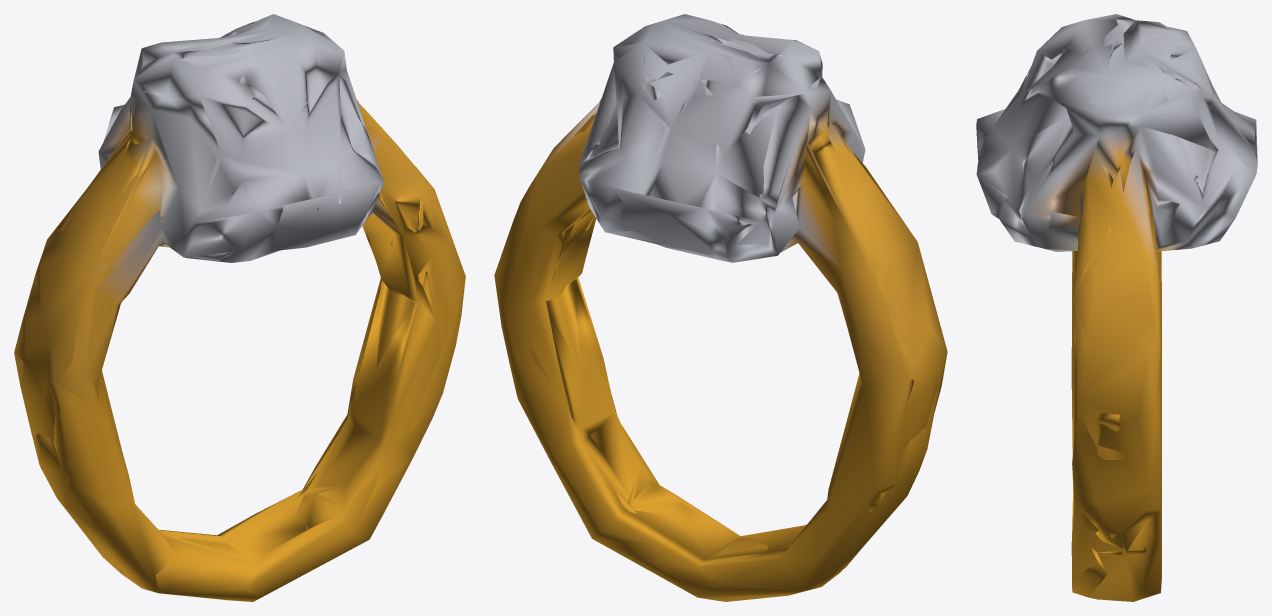
File: gen3d-diamond-ring-lod0.glb
3 views of the same model, side by side, from view 1: azimuth 30°, elevation 25°; view 2: azimuth 150°, elevation 25°; view 3: azimuth 270°, elevation 25° (orthographic). The views are drawn at different scales.
Visible parts, largest first — view 1: part_0; view 2: part_0; view 3: part_0.
Boxes of the visible parts, bbox=[...] form: part_0: bbox=[14, 14, 465, 601]; part_0: bbox=[494, 14, 947, 601]; part_0: bbox=[976, 14, 1257, 601].
Size of the model in its own units: 0.7816 by 0.9983 by 0.4704.
